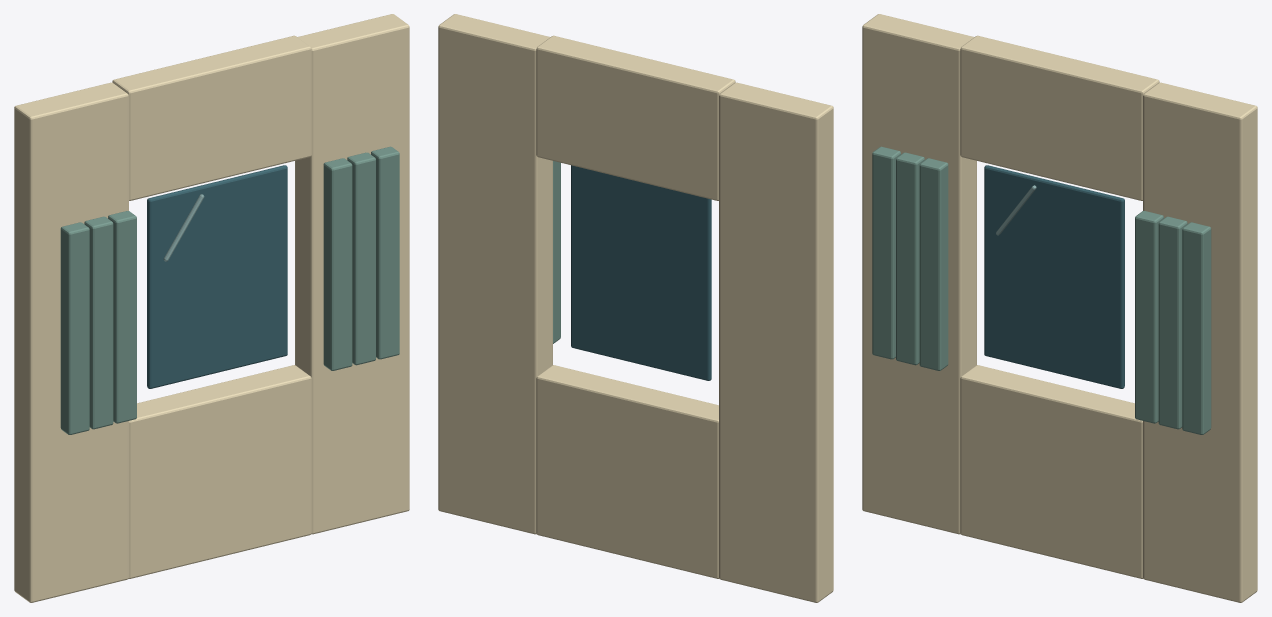
File: wall_window_2m__finish.glb
3 renders of one model, left to right at view 1: azimuth 30°, elevation 25°; view 2: azimuth 150°, elevation 25°; view 3: azimuth 330°, elevation 25°, orthographic.
Parts seen in each view (by area): view 1: wall_window_2m__finish__mesh_00; view 2: wall_window_2m__finish__mesh_00; view 3: wall_window_2m__finish__mesh_00.
Part boxes in pixels (x1,y1,x2,y2): wall_window_2m__finish__mesh_00: (14, 14, 409, 602); wall_window_2m__finish__mesh_00: (438, 14, 833, 602); wall_window_2m__finish__mesh_00: (862, 14, 1257, 602).
Size of the model in its own units: 1.8 by 2.21 by 0.2575.
